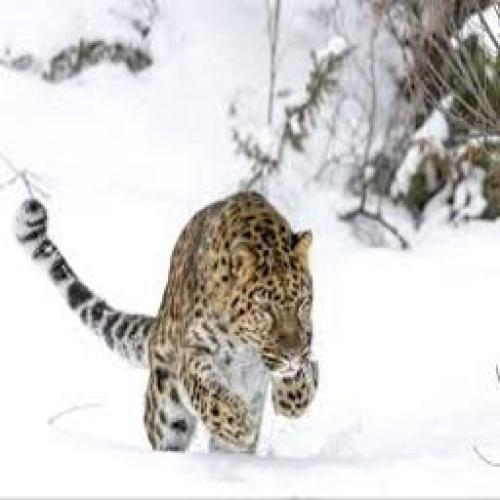amur_leopard-endangered: (13, 190, 317, 451)
